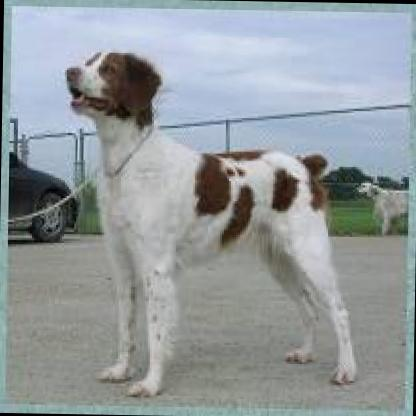Brittany_spaniel: (55, 44, 361, 396)
